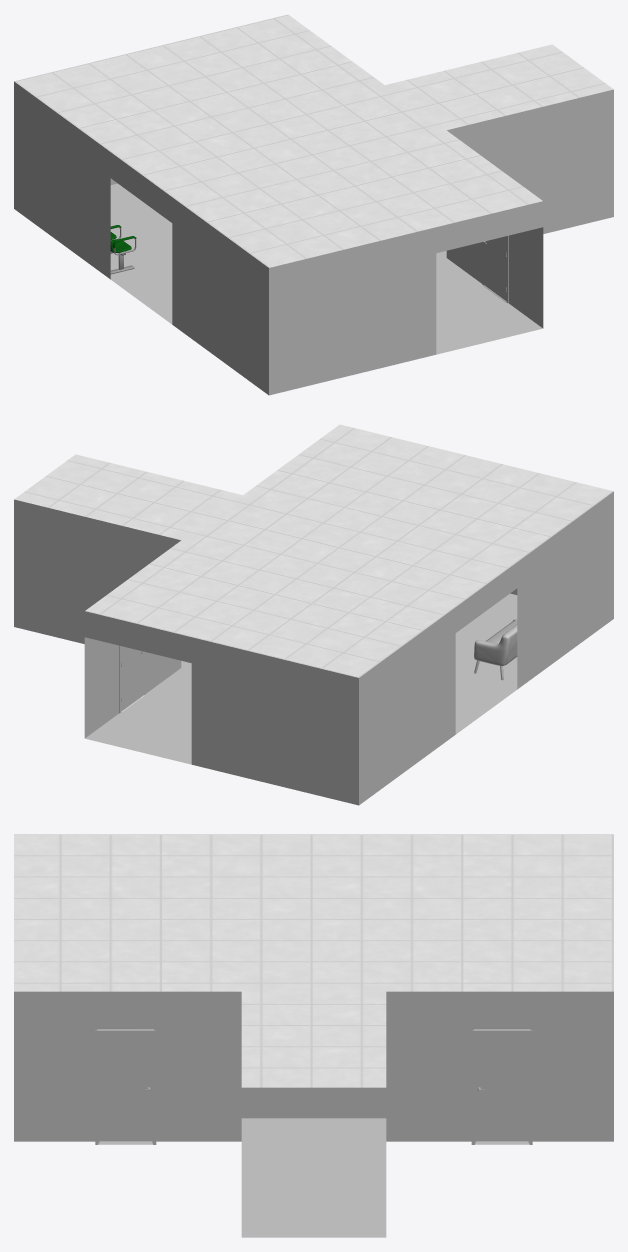
File: Hub.002.fbx
3 renders of one model, top to bottom at view 1: azimuth 30°, elevation 25°; view 2: azimuth 150°, elevation 25°; view 3: azimuth 270°, elevation 25°, orthographic. The views are drawn at different scales.
Visible parts, largest first — view 1: room.004, room.008; view 2: room.004, couch_01.003; view 3: room.004.
Part boxes in pixels (x1,y1,x2,y2): room.004: [14, 14, 613, 395]; room.008: [110, 225, 136, 274]; room.004: [14, 424, 613, 805]; couch_01.003: [474, 619, 517, 680]; room.004: [14, 834, 613, 1237].
Size of the model in its own units: 1000 by 276 by 1000.
